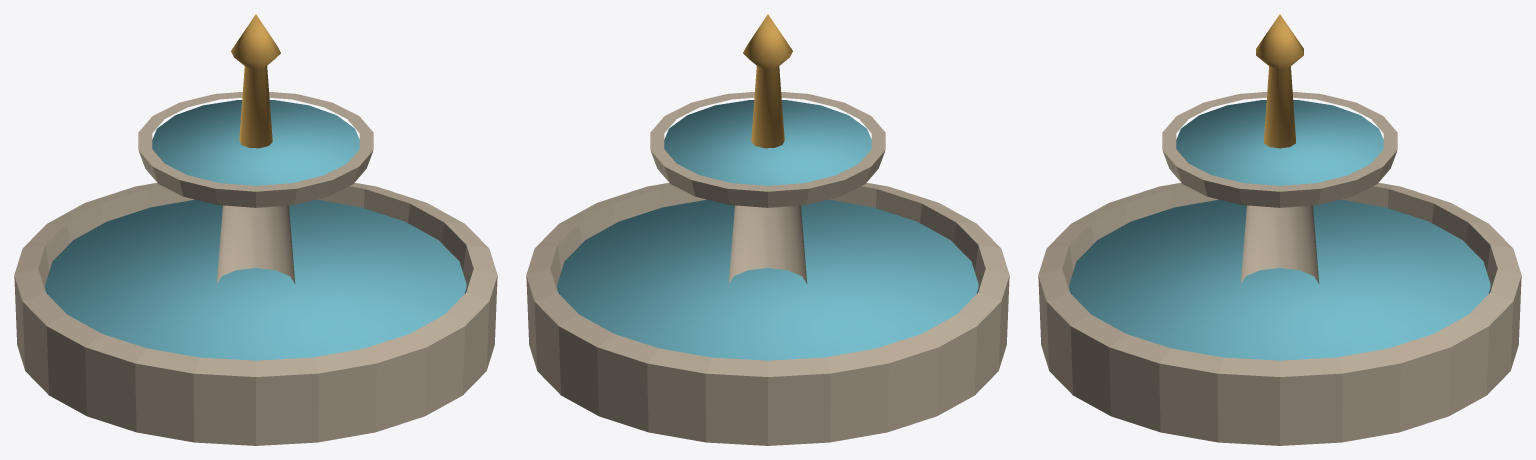
The model's file is fountain.glb.
3 renders of one model, left to right at view 1: azimuth 30°, elevation 25°; view 2: azimuth 150°, elevation 25°; view 3: azimuth 270°, elevation 25°, orthographic.
Parts seen in each view (by area): view 1: fountain; view 2: fountain; view 3: fountain.
Boxes of the visible parts, x1=… form: fountain: x1=14, y1=14, x2=497, y2=445; fountain: x1=526, y1=14, x2=1009, y2=445; fountain: x1=1038, y1=14, x2=1521, y2=445.
Size of the model in its own units: 3.44 by 2.6 by 3.44.
